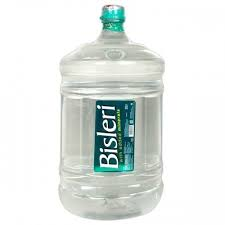Bisleri: (95, 99, 133, 174)
plastic: (63, 57, 158, 210), (103, 5, 123, 31)
